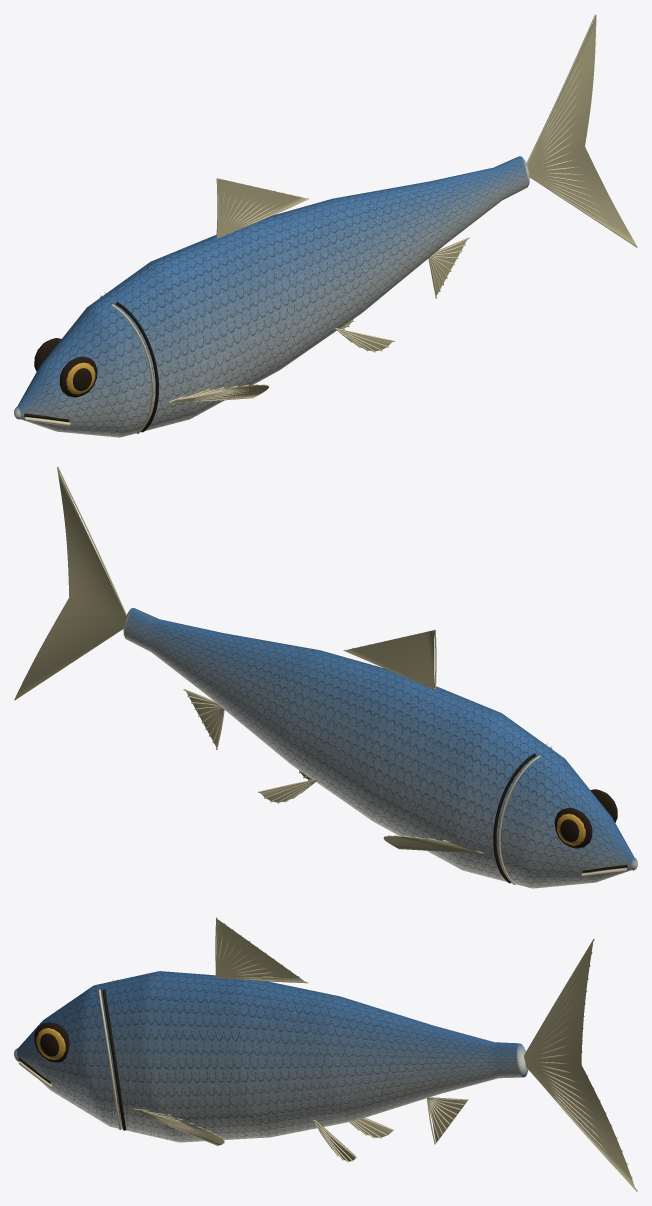
File: silt_minnow.glb
The picture shows the model from 3 angles, top to bottom: view 1: azimuth 30°, elevation 25°; view 2: azimuth 150°, elevation 25°; view 3: azimuth 330°, elevation 25°; orthographic projection.
Parts seen in each view (by area): view 1: scaled skin with continuous back and belly, ribbed fin membrane, fin rays and lip rim, mouth, gill creases and pupils; view 2: scaled skin with continuous back and belly, ribbed fin membrane, fin rays and lip rim, mouth, gill creases and pupils; view 3: scaled skin with continuous back and belly, ribbed fin membrane, fin rays and lip rim, mouth, gill creases and pupils, iris ring.
Boxes of the visible parts, x1,y1,x2,y2 form: scaled skin with continuous back and belly: (14,156,529,437); ribbed fin membrane: (169,15,637,402); fin rays and lip rim: (24,14,637,433); mouth, gill creases and pupils: (24,292,158,432); scaled skin with continuous back and belly: (123,608,637,888); ribbed fin membrane: (14,467,482,853); fin rays and lip rim: (14,467,626,884); mouth, gill creases and pupils: (493,743,627,883); scaled skin with continuous back and belly: (14,971,528,1142); ribbed fin membrane: (133,918,637,1191); fin rays and lip rim: (18,917,637,1191); mouth, gill creases and pupils: (18,980,126,1130); iris ring: (36,1028,65,1059).
Size of the model in its own units: 0.2298 by 0.1073 by 0.0301.
5 materials, 1 textured.
